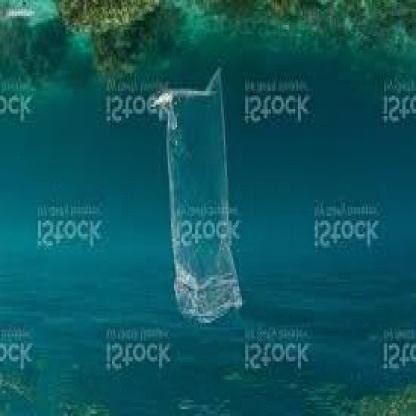pbag: (145, 59, 250, 332)
